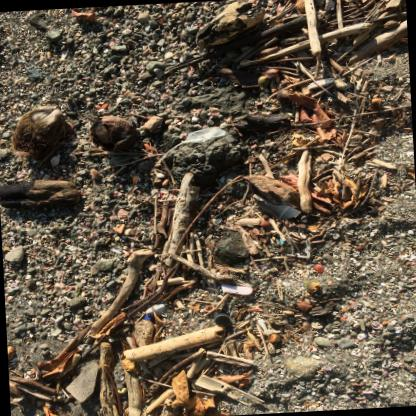Plastic: (157, 125, 225, 162), (256, 196, 301, 220), (284, 236, 310, 257), (221, 280, 253, 294), (257, 318, 267, 329), (279, 237, 284, 243)
Waste: (213, 309, 229, 324)
